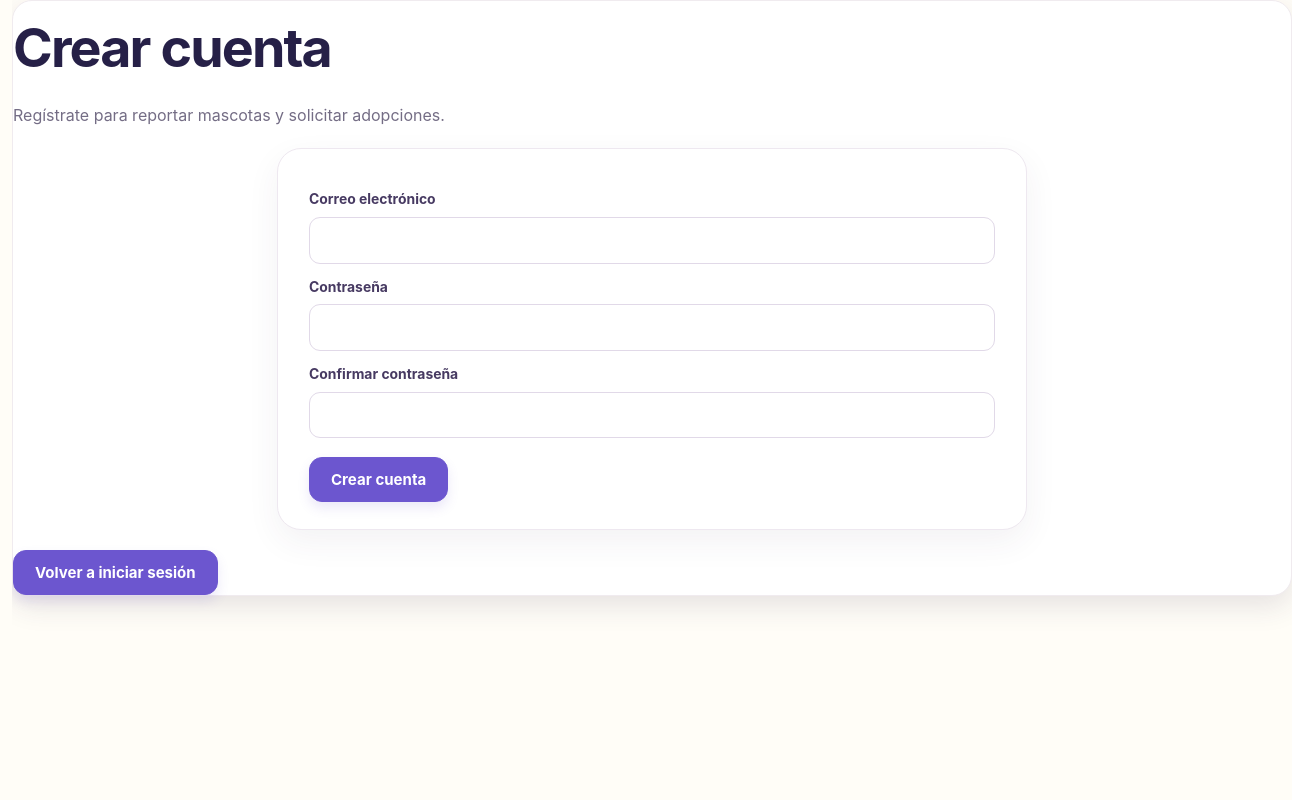
Test: muestra confirmación de registro exitoso
The image size is (1292, 800).
Type "nuevo@ejemplo.com" into the field labelled "Correo electrónico". click: (652,240)
box: [309,217,995,264]
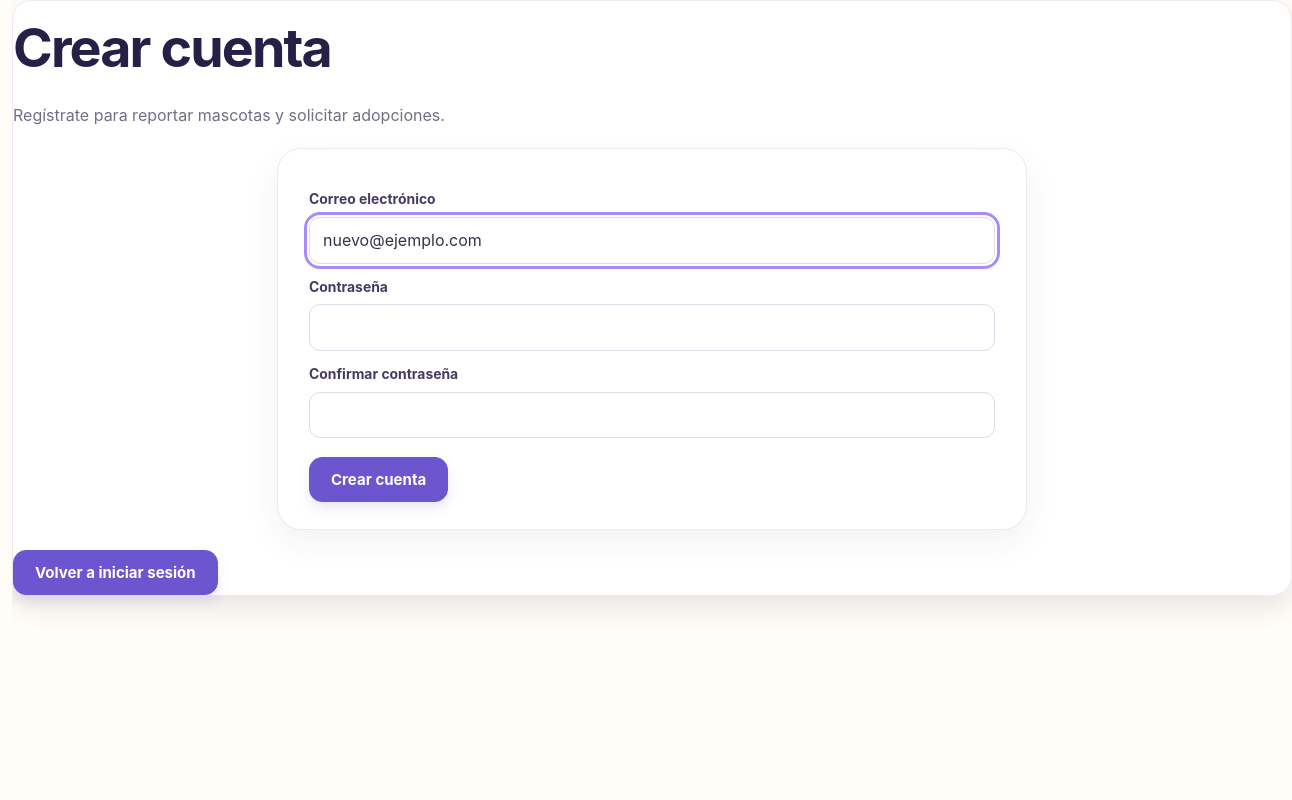
Type "Clave12345" into the password field labelled "Contraseña". click: (652,328)
box: [309,304,995,351]
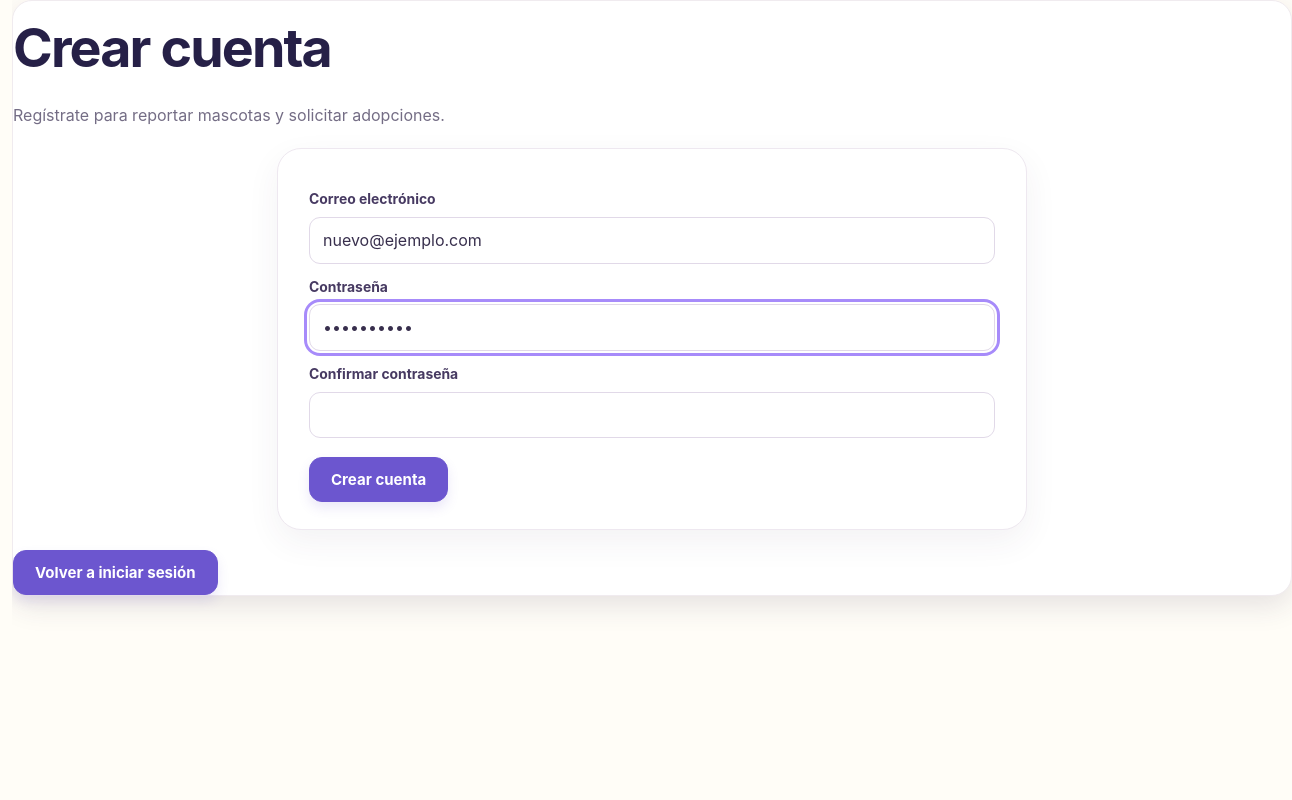
Type "Clave12345" into the password field labelled "Confirmar contraseña". click: (652,415)
box: [309,392,995,438]
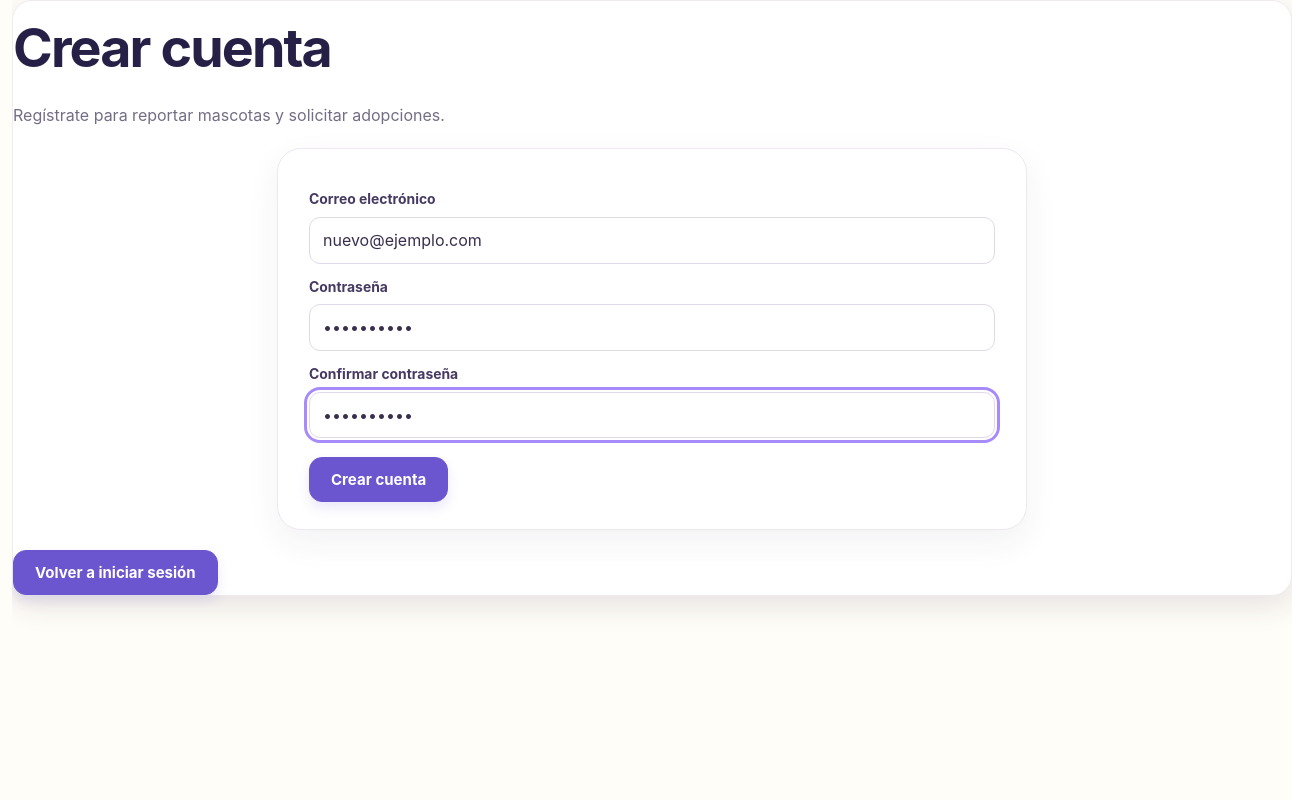
Click the button "Crear cuenta". click: (379,480)
box: [309,457,448,502]
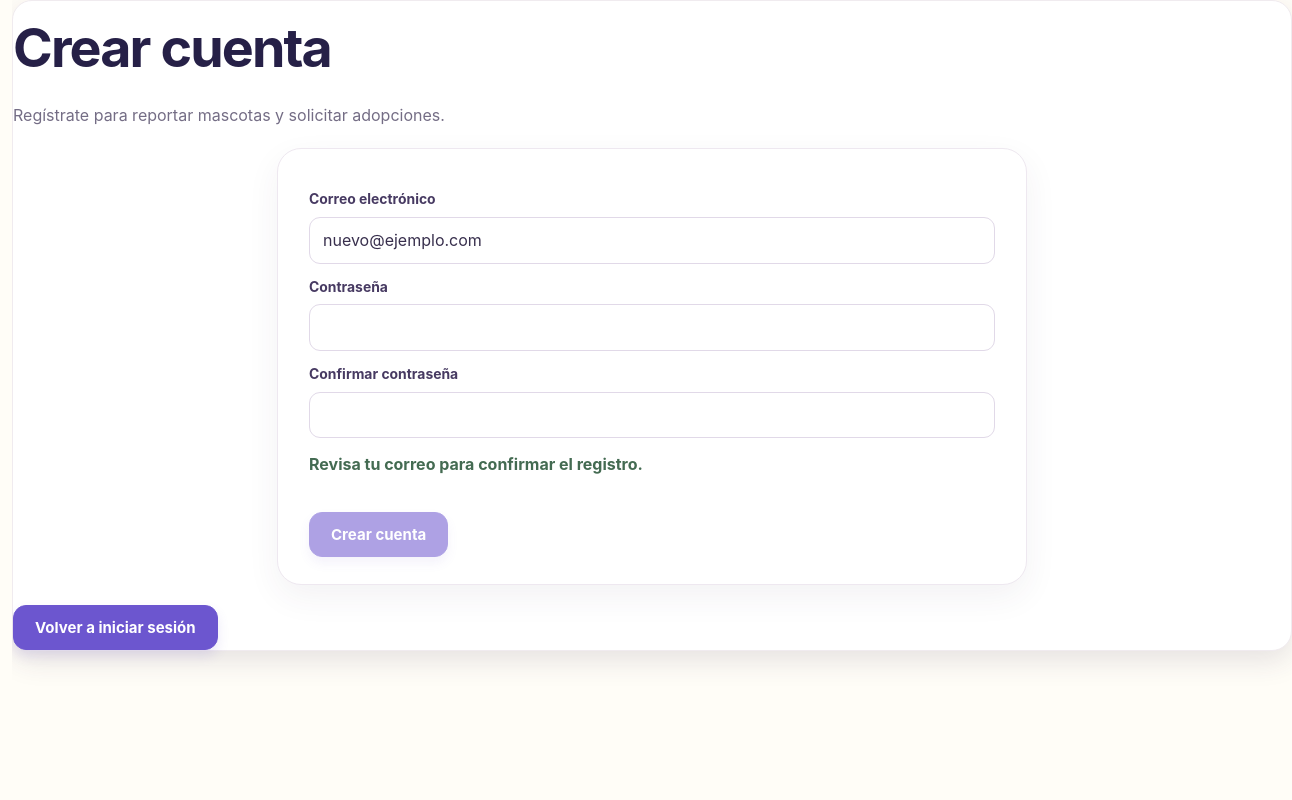
Now the message shows "Revisa tu correo", box [309,454,643,474]
